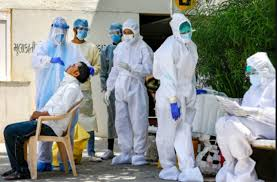mask: (249, 74, 261, 87), (76, 30, 87, 40), (179, 32, 191, 40), (110, 34, 120, 43), (55, 33, 65, 42), (122, 34, 134, 41)
